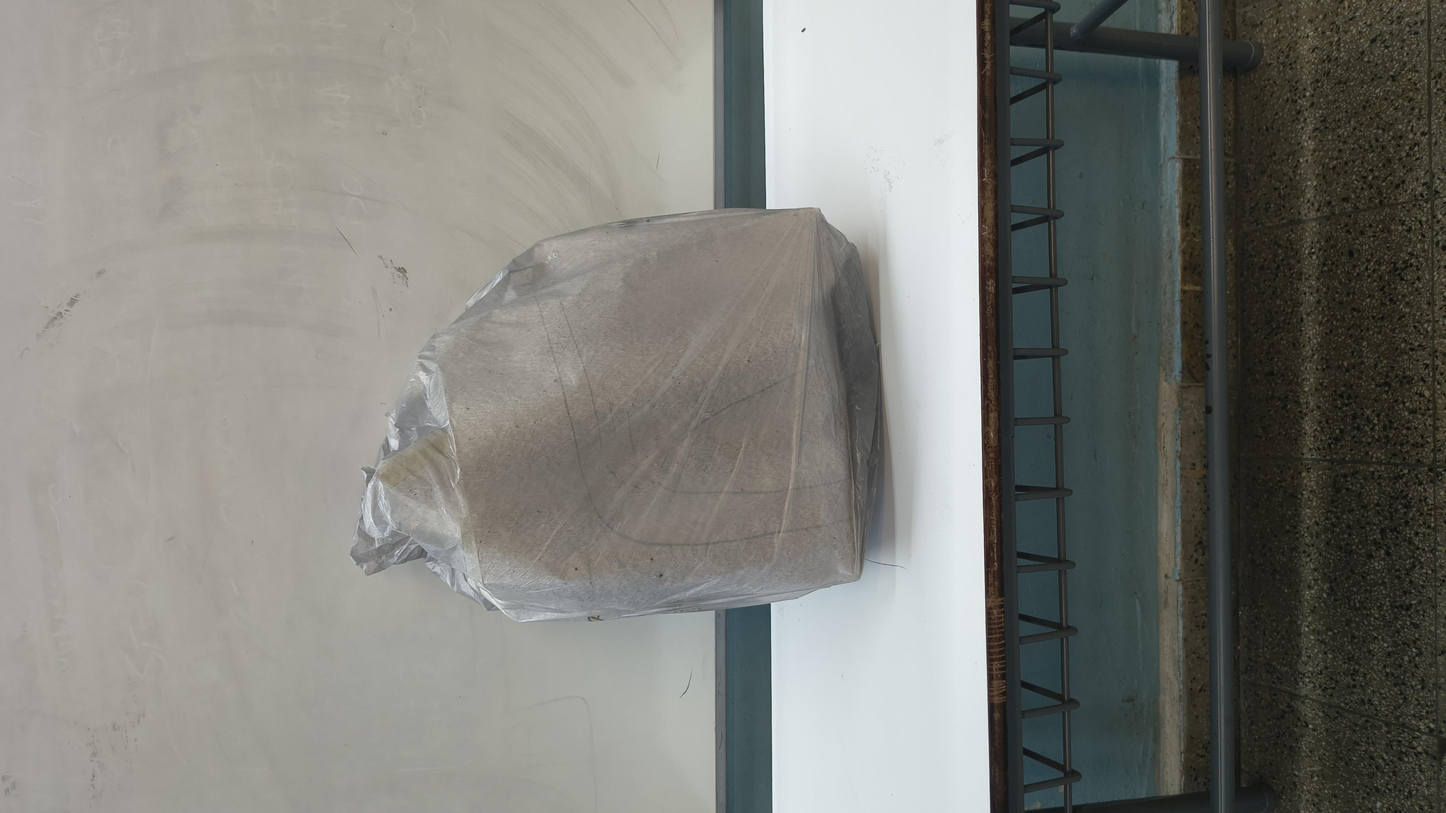Garbage: (232, 169, 1218, 520)
